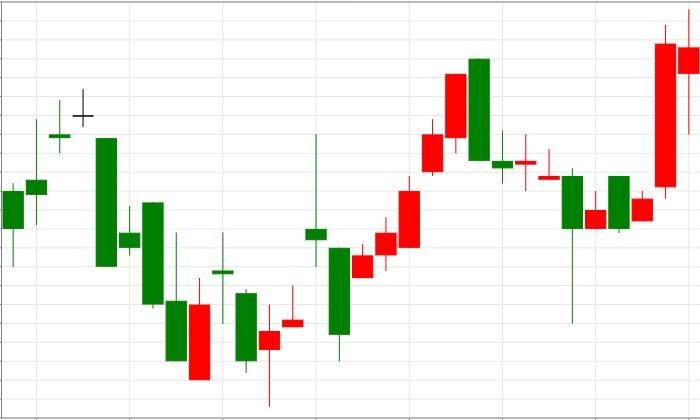bearish_engulfing_fall: (352, 57, 491, 278)
